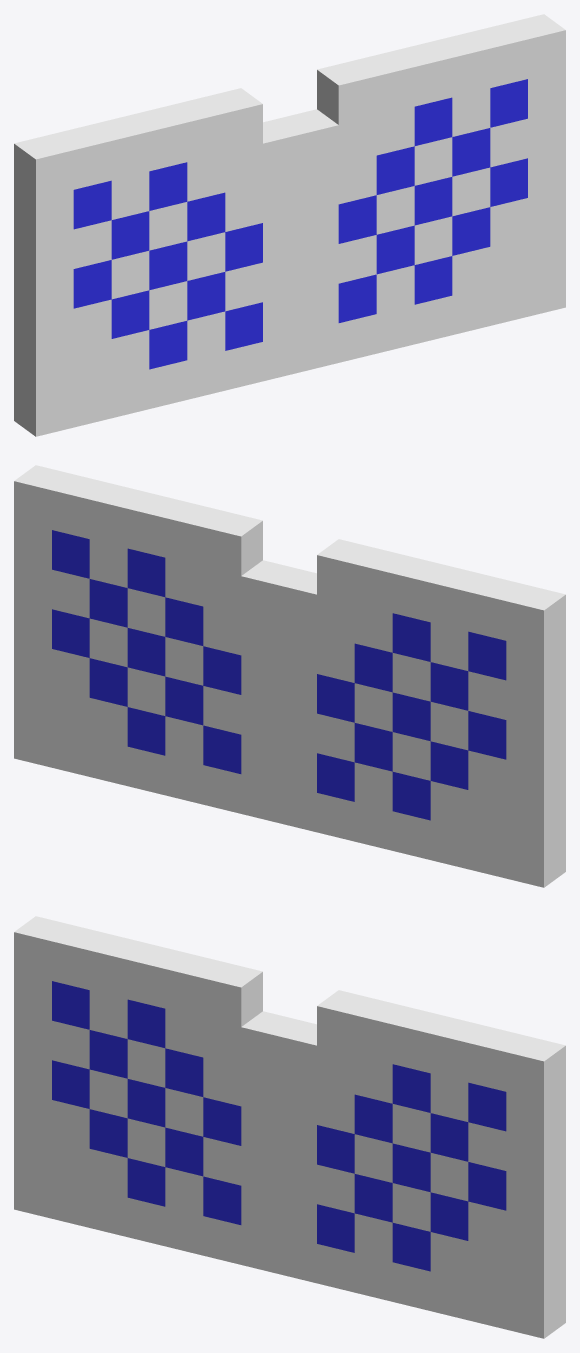
The picture shows the model from 3 angles, top to bottom: view 1: azimuth 30°, elevation 25°; view 2: azimuth 150°, elevation 25°; view 3: azimuth 330°, elevation 25°; orthographic projection.
Visible parts, largest first — view 1: eye-shapes068, eye-shapes035; view 2: eye-shapes068, eye-shapes035; view 3: eye-shapes068, eye-shapes035.
Boxes of the visible parts, left/top/right/bottom form: eye-shapes068: left=14, top=14, right=565, bottom=436; eye-shapes035: left=73, top=79, right=527, bottom=369; eye-shapes068: left=14, top=465, right=565, bottom=887; eye-shapes035: left=52, top=530, right=506, bottom=820; eye-shapes068: left=14, top=916, right=565, bottom=1338; eye-shapes035: left=52, top=981, right=506, bottom=1271.
Bounding box in the file's own units: 140 × 70 × 10.
Materials: 2 (2 with a texture image).
